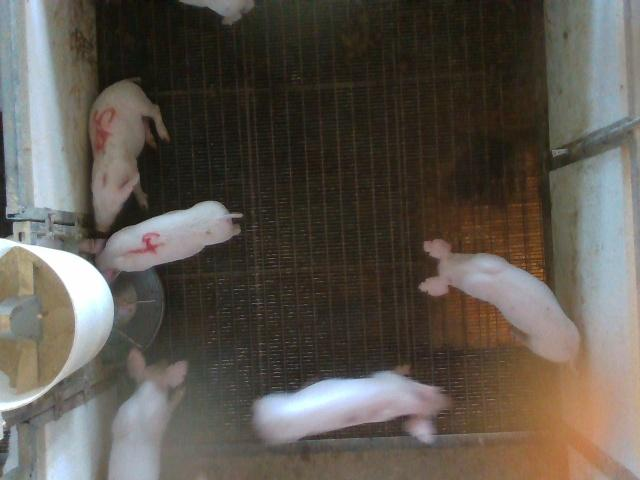pig-4: (80, 201, 241, 282)
pig-5: (89, 79, 170, 232)
